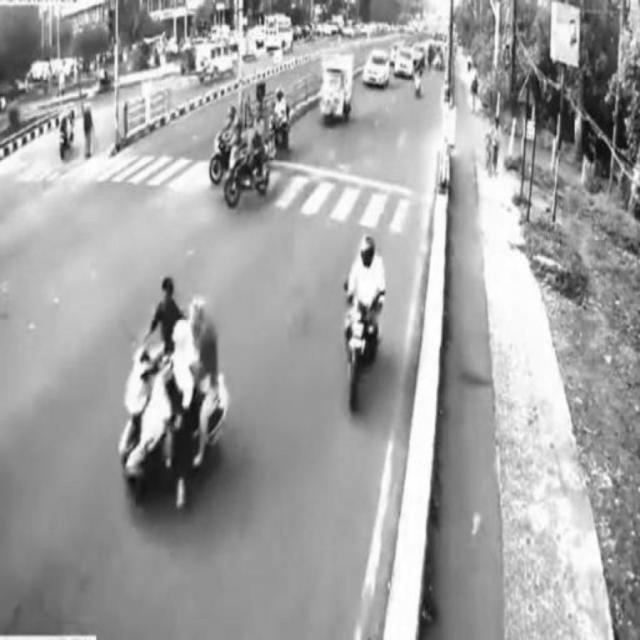accident: (114, 275, 234, 513)
vehicle: (345, 234, 385, 408), (224, 121, 271, 207), (319, 58, 353, 116)
